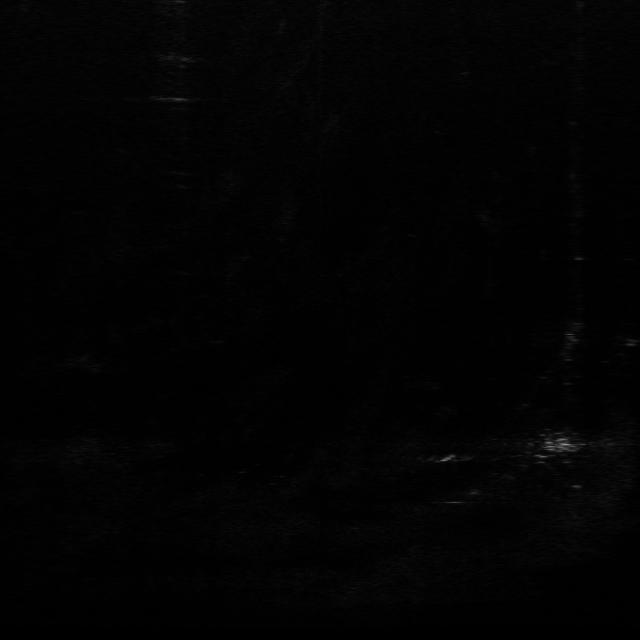rov: (538, 436, 580, 455)
